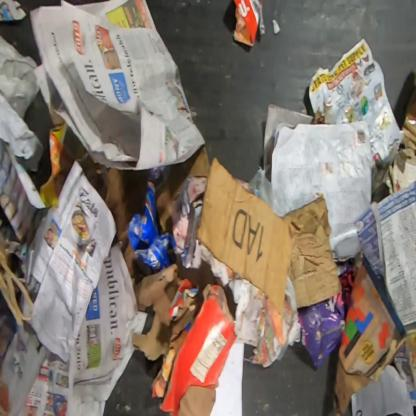cardboard: (196, 157, 342, 316), (330, 253, 410, 416), (150, 278, 238, 415), (125, 180, 178, 276), (39, 107, 85, 209), (132, 263, 178, 361), (187, 145, 211, 178)
soft_plastic: (298, 292, 346, 370)
